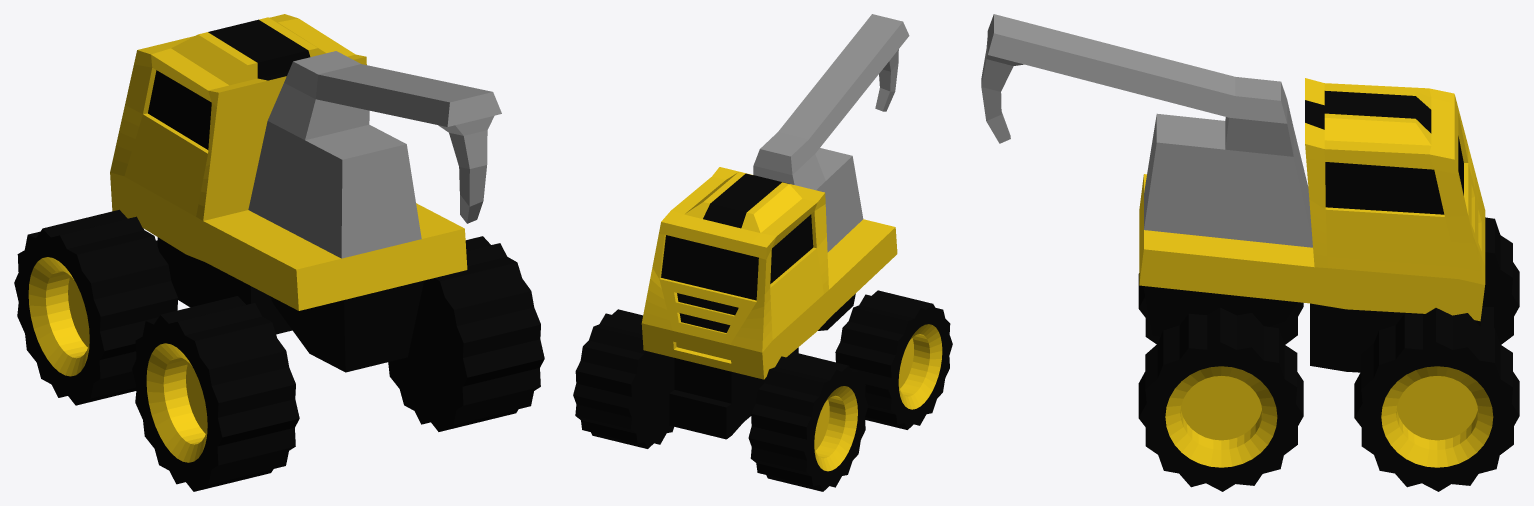
Rendered from YellowTruck.fbx.
3 views of the same model, side by side, from view 1: azimuth 30°, elevation 25°; view 2: azimuth 150°, elevation 25°; view 3: azimuth 270°, elevation 25° (orthographic). The views are drawn at different scales.
Parts seen in each view (by area): view 1: TruckBody, Wheel4, Wheel2, Wheel3; view 2: TruckBody, Wheel2, Wheel4, Wheel1; view 3: TruckBody, Wheel3, Wheel1, Wheel2, Wheel4.
Boxes of the visible parts, <box> form: TruckBody: <box>110,14,501,372</box>; Wheel4: <box>132,296,299,491</box>; Wheel2: <box>14,209,177,405</box>; Wheel3: <box>388,236,544,431</box>; TruckBody: <box>641,14,909,439</box>; Wheel2: <box>748,352,868,491</box>; Wheel4: <box>835,290,952,429</box>; Wheel1: <box>573,309,674,448</box>; TruckBody: <box>981,14,1493,372</box>; Wheel3: <box>1138,307,1303,491</box>; Wheel1: <box>1354,308,1519,491</box>; Wheel2: <box>1482,217,1519,344</box>; Wheel4: <box>1138,273,1303,344</box>.
Size of the model in its own units: 671 by 1060 by 869.
Materials: 1 (1 with a texture image).
